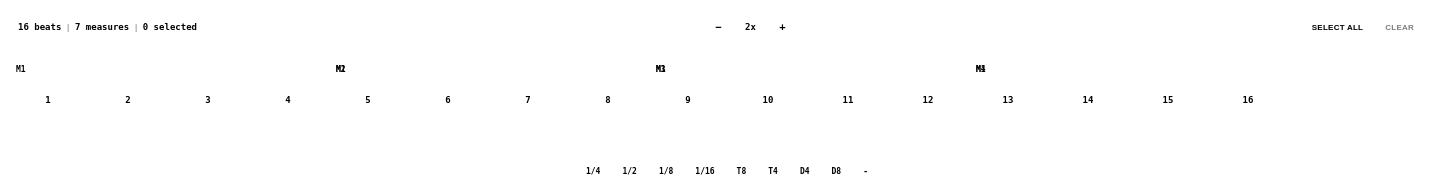
Scenario: BeatSubdivisionGrid › Zoom Controls › decreases zoom when zoom out button is clicked
Click the button named "Zoom out" at (718, 27), box [706,16,730,38]
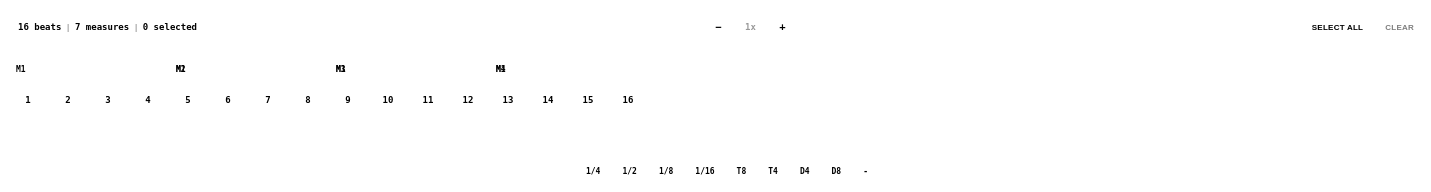
Check: the button named "Reset to 1x" reads "1x", box [732,16,768,38]
